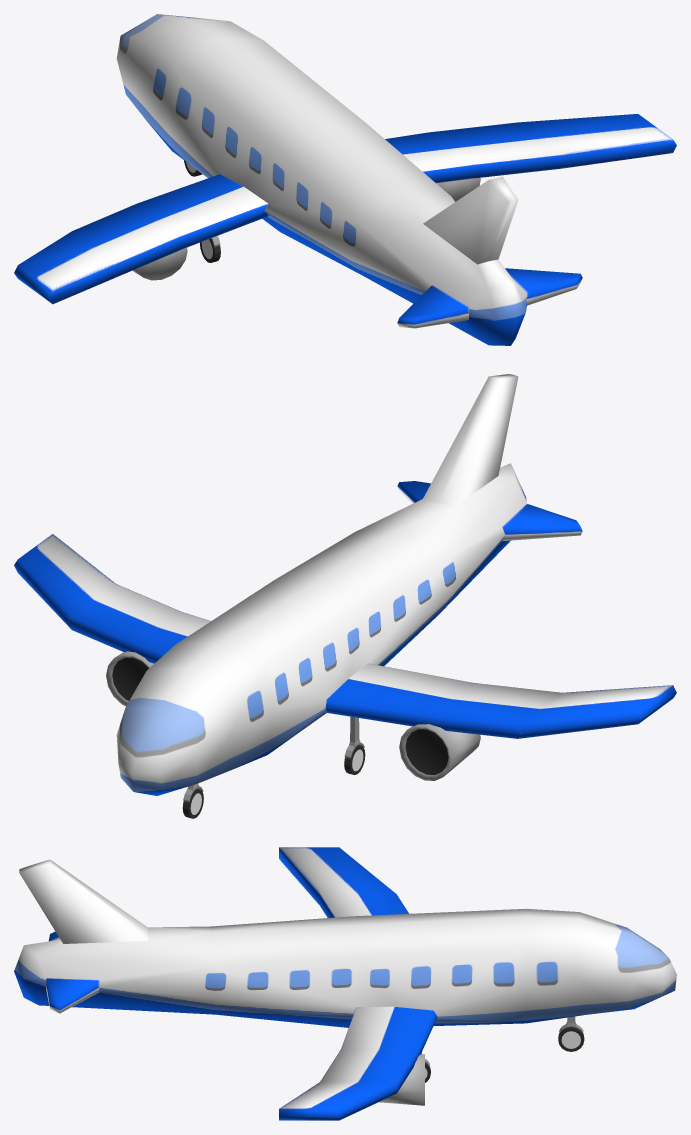
3 views of the same model, one above another, from view 1: azimuth 30°, elevation 25°; view 2: azimuth 150°, elevation 25°; view 3: azimuth 270°, elevation 25° (orthographic). The views are drawn at different scales.
Parts seen in each view (by area): view 1: 立方体; view 2: 立方体, 円.001; view 3: 立方体, 円.
Boxes of the visible parts, <box> form: 立方体: <box>14,14,676,345</box>; 立方体: <box>14,374,676,795</box>; 円.001: <box>344,716,365,774</box>; 立方体: <box>14,847,676,1120</box>; 円: <box>558,1016,584,1051</box>.
Size of the model in its own units: 1227 by 1299 by 414.
3 materials, 3 textured.
